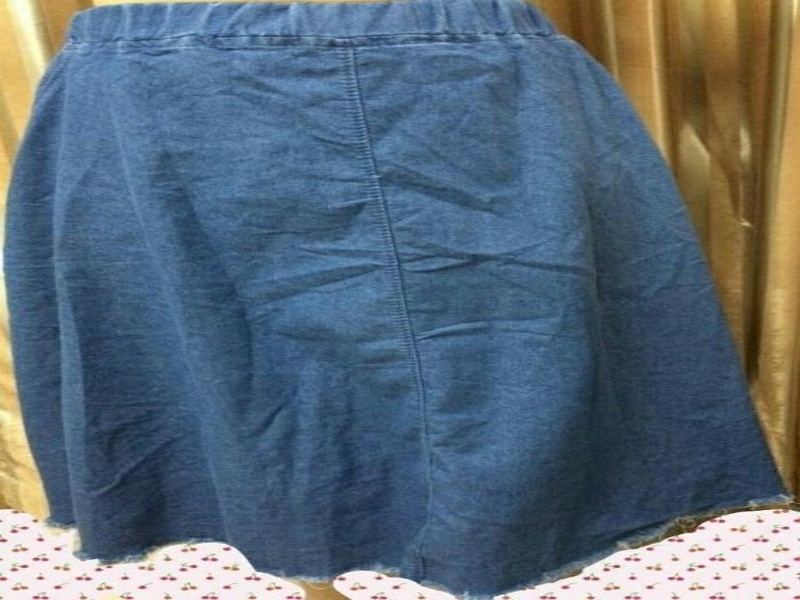skirt: (0, 0, 795, 599)
